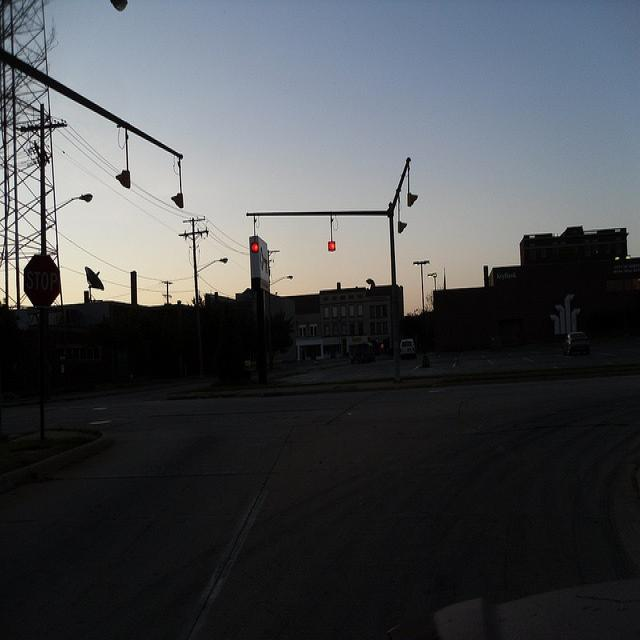car: (561, 329, 589, 354), (397, 336, 415, 357)
